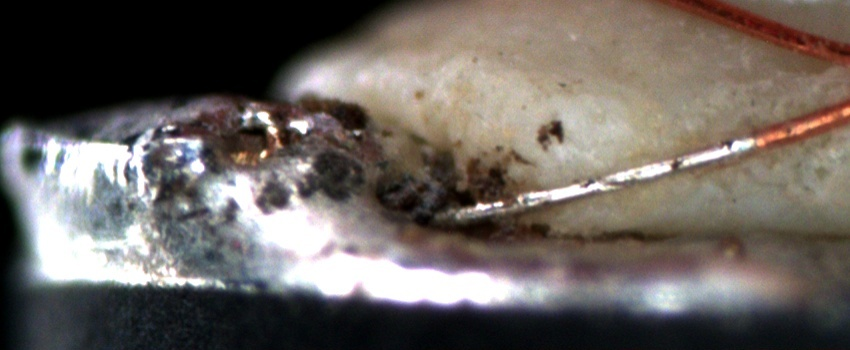TS: (434, 136, 757, 224)
